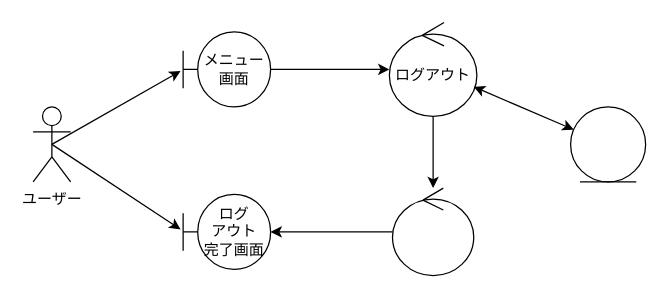
Some shapes in this 668 by 298 pixel diagram are drawn without their labels. Each missing label, with the centre of its shape:
ログアウト完了画面の表示: the point at 432,231
訪問者 情報: the point at 607,144
